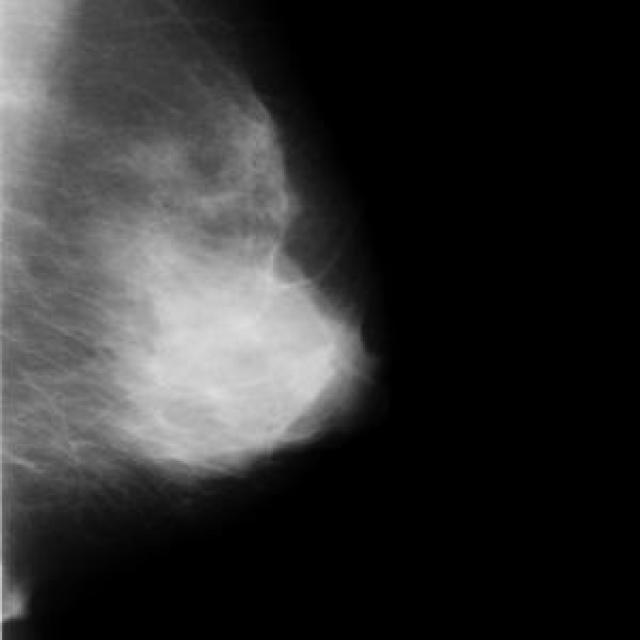tumor: (113, 234, 309, 466)
